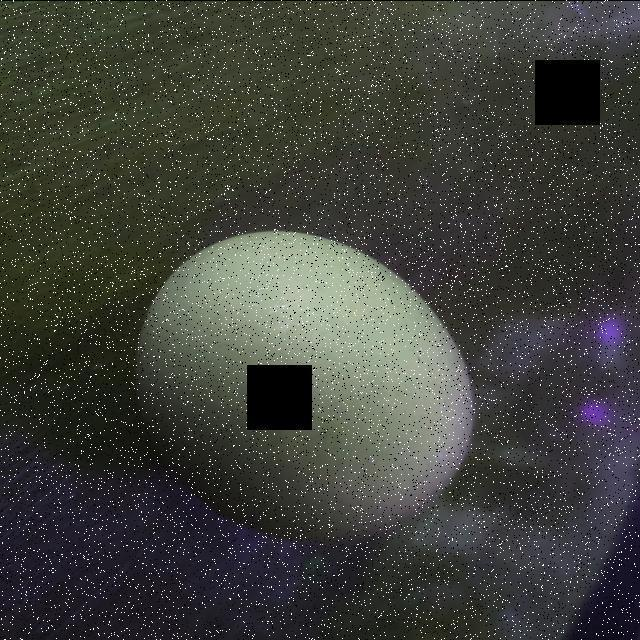egg: (126, 222, 485, 550)
